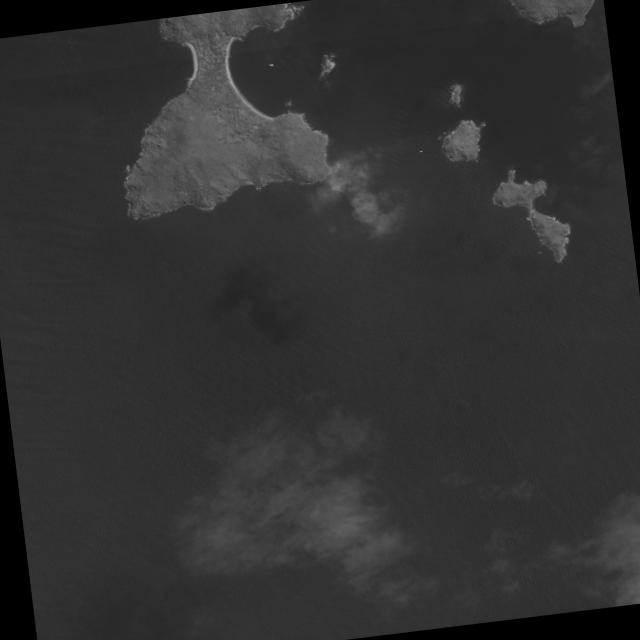ship: (269, 62, 274, 65), (419, 148, 422, 151)
